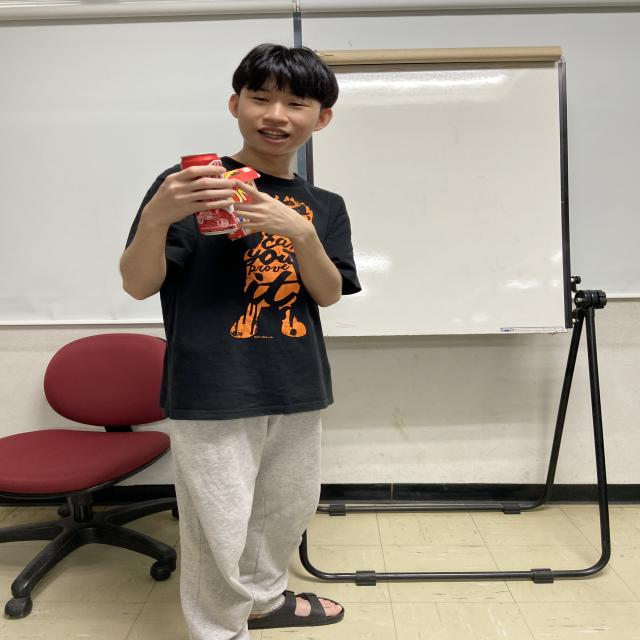can: (179, 152, 240, 236)
